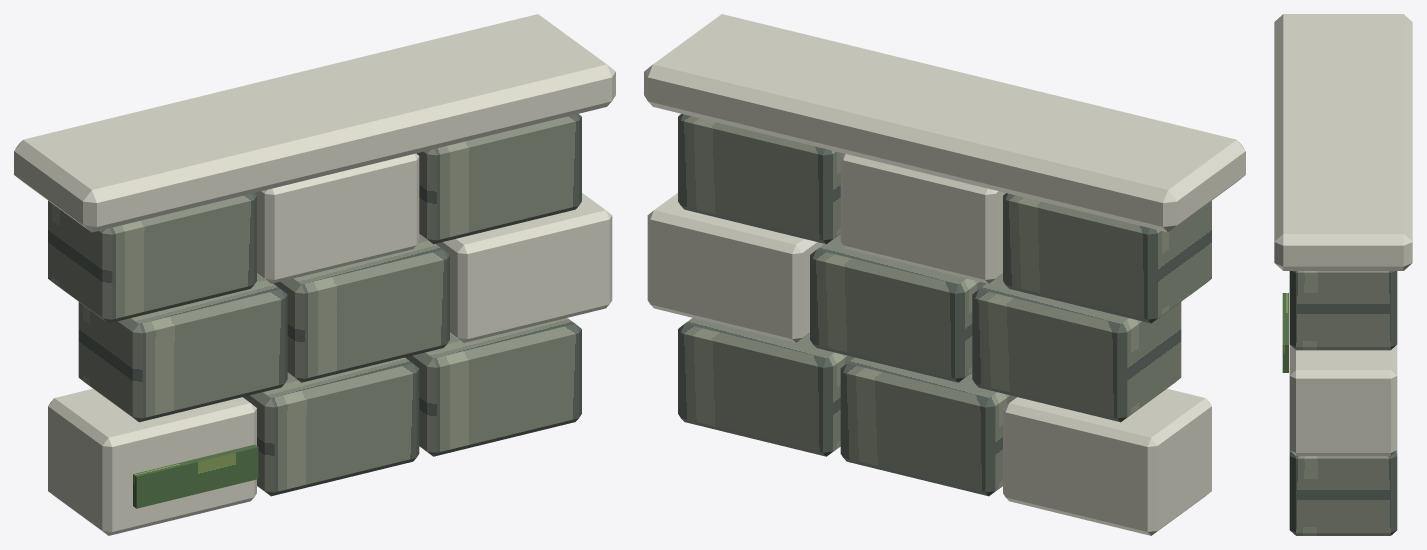
The model's file is wall_horizontal.glb.
3 views of the same model, side by side, from view 1: azimuth 30°, elevation 25°; view 2: azimuth 150°, elevation 25°; view 3: azimuth 270°, elevation 25° (orthographic). The views are drawn at different scales.
Parts seen in each view (by area): view 1: Coping, Wall_stone.003, Wall_stone, Wall_stone.006, Wall_stone.005, Wall_stone.004, Wall_stone.002, Wall_stone.001, Wall_stone.007, Wall_stone.008, Moss; view 2: Coping, Wall_stone, Wall_stone.003, Wall_stone.006, Wall_stone.005, Wall_stone.001, Wall_stone.004, Wall_stone.002, Wall_stone.007, Wall_stone.008; view 3: Coping, Wall_stone.005, Wall_stone.002, Wall_stone.008, Moss.
Boxes of the visible parts, bbox=[...] form: Coping: bbox=[14, 14, 615, 232]; Wall_stone.003: bbox=[78, 274, 287, 422]; Wall_stone: bbox=[48, 388, 256, 535]; Wall_stone.006: bbox=[48, 193, 256, 323]; Wall_stone.005: bbox=[435, 193, 612, 342]; Wall_stone.004: bbox=[273, 234, 449, 382]; Wall_stone.002: bbox=[405, 318, 581, 456]; Wall_stone.001: bbox=[243, 357, 419, 496]; Wall_stone.007: bbox=[254, 153, 419, 283]; Wall_stone.008: bbox=[416, 114, 581, 244]; Moss: bbox=[133, 444, 258, 508]; Coping: bbox=[644, 14, 1245, 232]; Wall_stone: bbox=[1003, 388, 1211, 535]; Wall_stone.003: bbox=[972, 274, 1181, 422]; Wall_stone.006: bbox=[1003, 193, 1211, 323]; Wall_stone.005: bbox=[647, 193, 824, 342]; Wall_stone.001: bbox=[840, 357, 1016, 496]; Wall_stone.004: bbox=[810, 234, 986, 382]; Wall_stone.002: bbox=[678, 318, 854, 456]; Wall_stone.007: bbox=[840, 153, 1005, 283]; Wall_stone.008: bbox=[678, 114, 843, 244]; Coping: bbox=[1274, 14, 1412, 270]; Wall_stone.005: bbox=[1289, 345, 1397, 455]; Wall_stone.002: bbox=[1289, 450, 1397, 535]; Wall_stone.008: bbox=[1289, 271, 1397, 350]; Moss: bbox=[1282, 293, 1288, 372].
Bounding box in the file's own units: 2.11 × 1.34 × 0.54.
Materials: 3 (2 with a texture image).
